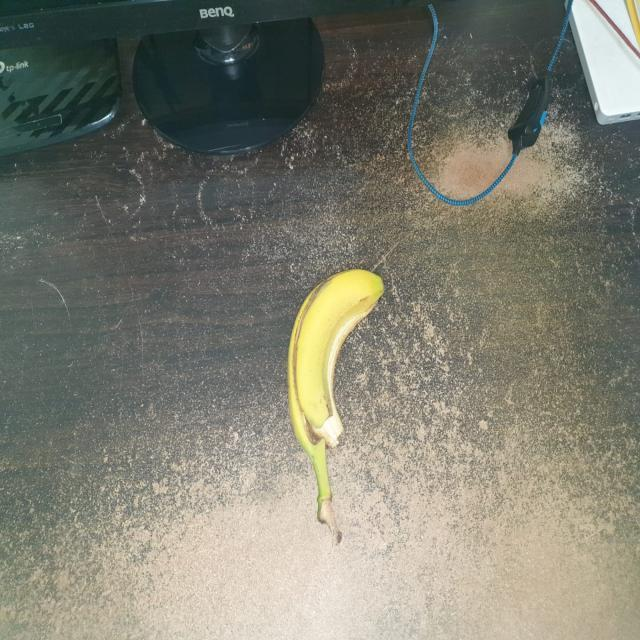banana-peel: (285, 267, 384, 544)
